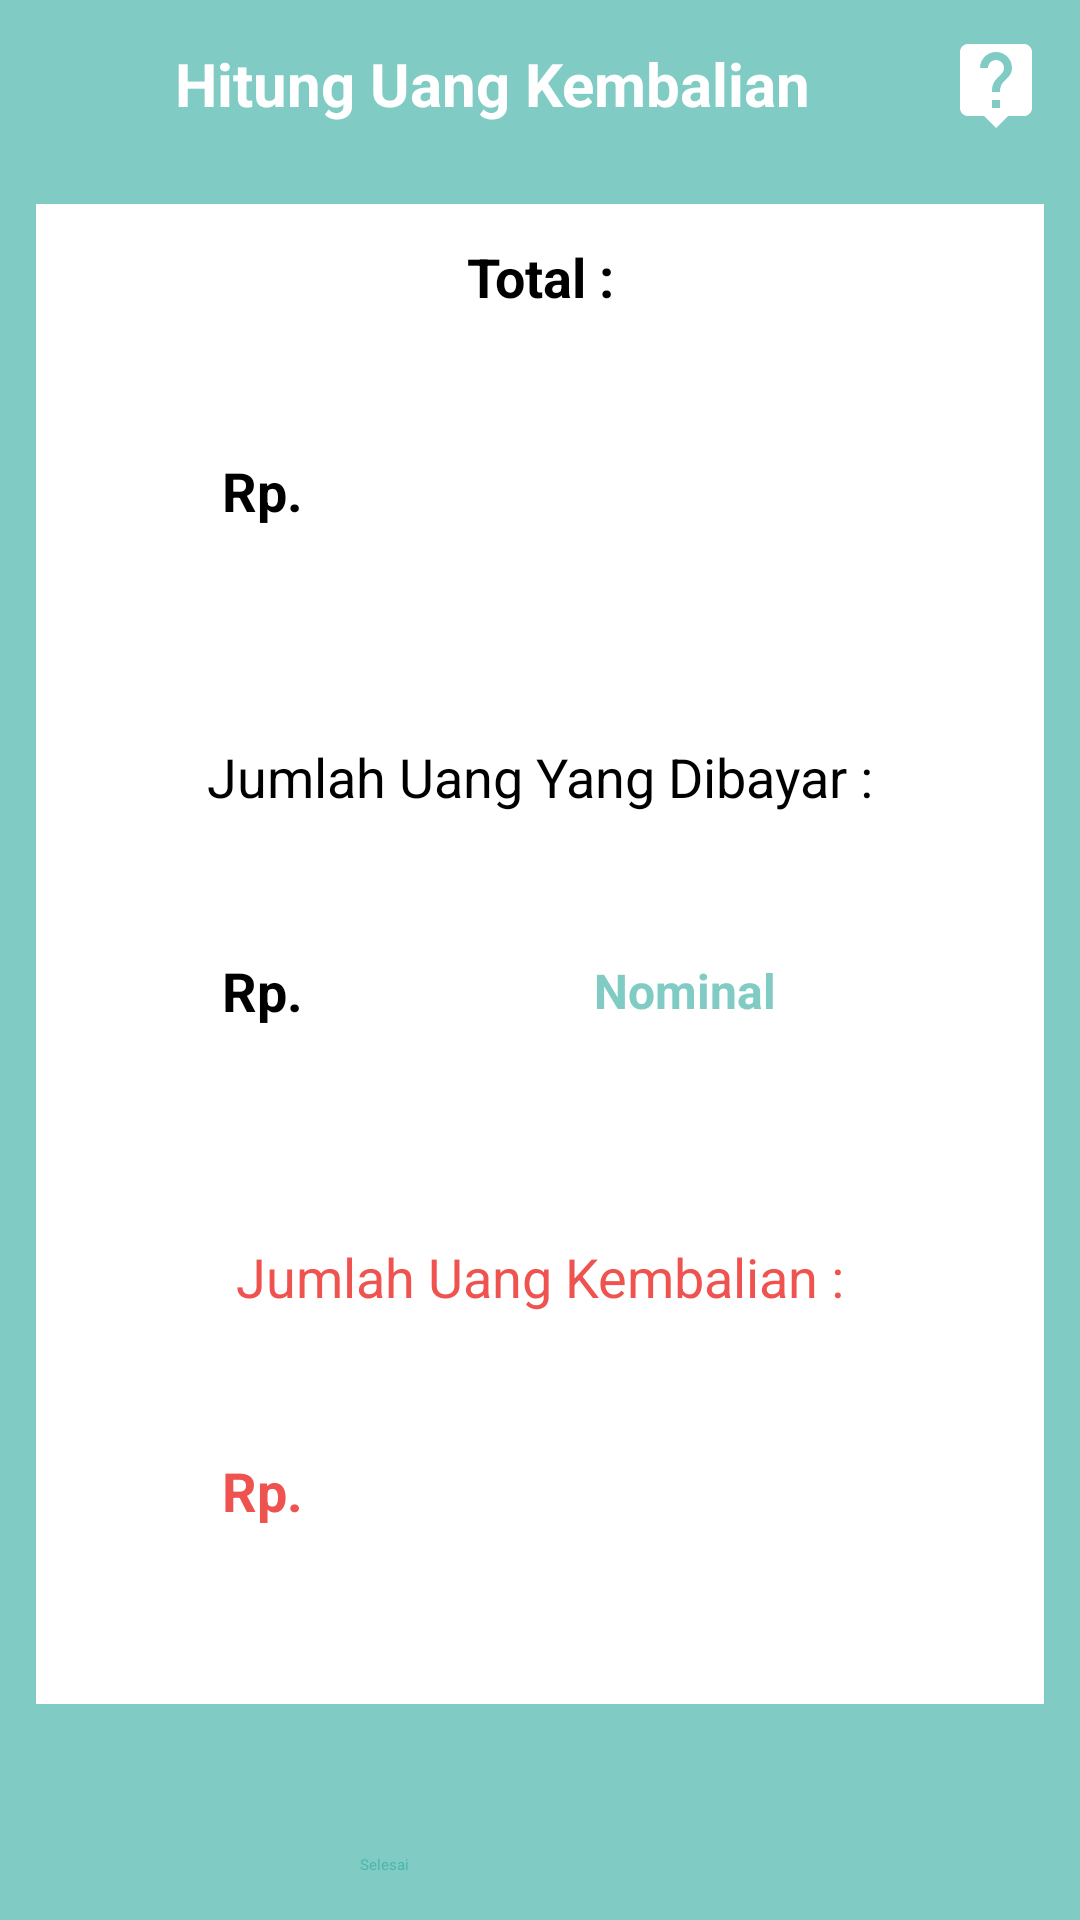

Locate icon controls on the screen. Image size 1080 × 1920, boxes as bbox(x1, y1, x2, y2).
live help: bbox(960, 44, 1032, 128)
